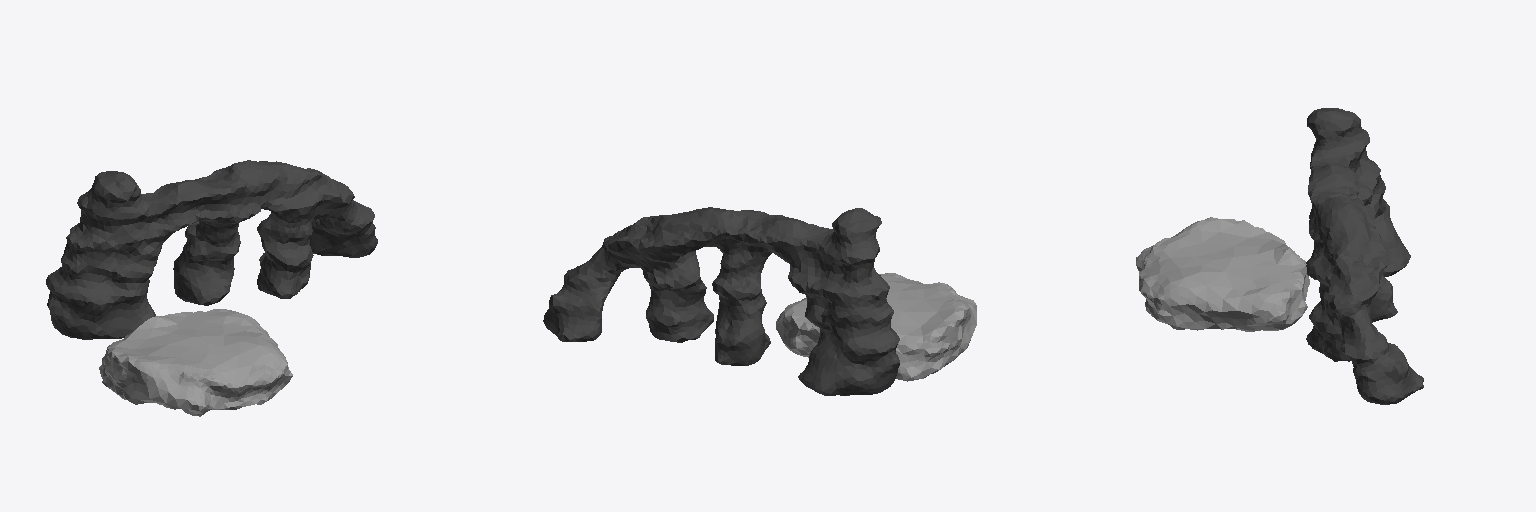
Rendered from Pingu.obj.
3 views of the same model, side by side, from view 1: azimuth 30°, elevation 25°; view 2: azimuth 150°, elevation 25°; view 3: azimuth 270°, elevation 25° (orthographic).
Visible parts, largest first — view 1: Stone_Arch___Large, Rock07; view 2: Stone_Arch___Large, Rock07; view 3: Stone_Arch___Large, Rock07.
Boxes of the visible parts, x1=… form: Stone_Arch___Large: x1=46, y1=160, x2=377, y2=339; Rock07: x1=99, y1=309, x2=292, y2=416; Stone_Arch___Large: x1=543, y1=207, x2=899, y2=395; Rock07: x1=776, y1=273, x2=976, y2=381; Stone_Arch___Large: x1=1306, y1=108, x2=1423, y2=404; Rock07: x1=1136, y1=217, x2=1309, y2=331.
Bounding box in the file's own units: 1148 × 587 × 846.